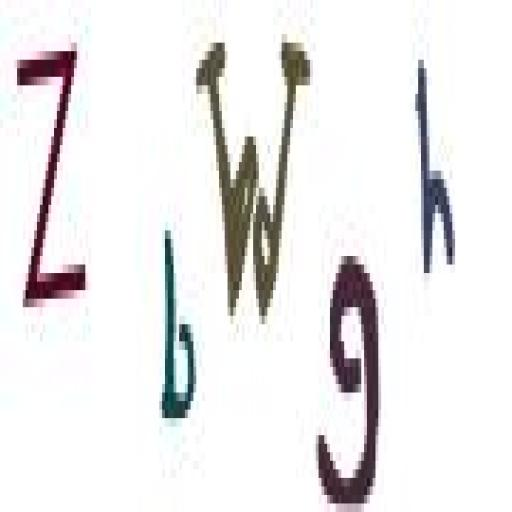9: (318, 233, 394, 512)
W: (193, 14, 316, 336)
Z: (10, 33, 99, 324)
b: (155, 218, 201, 433)
h: (410, 31, 458, 293)
